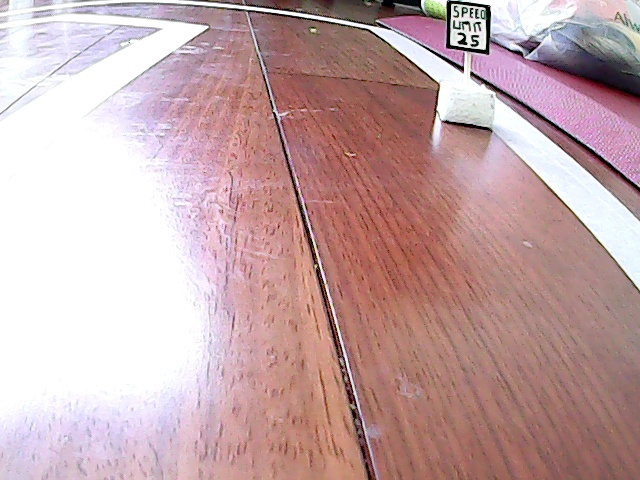speed_25: (435, 1, 506, 130)
